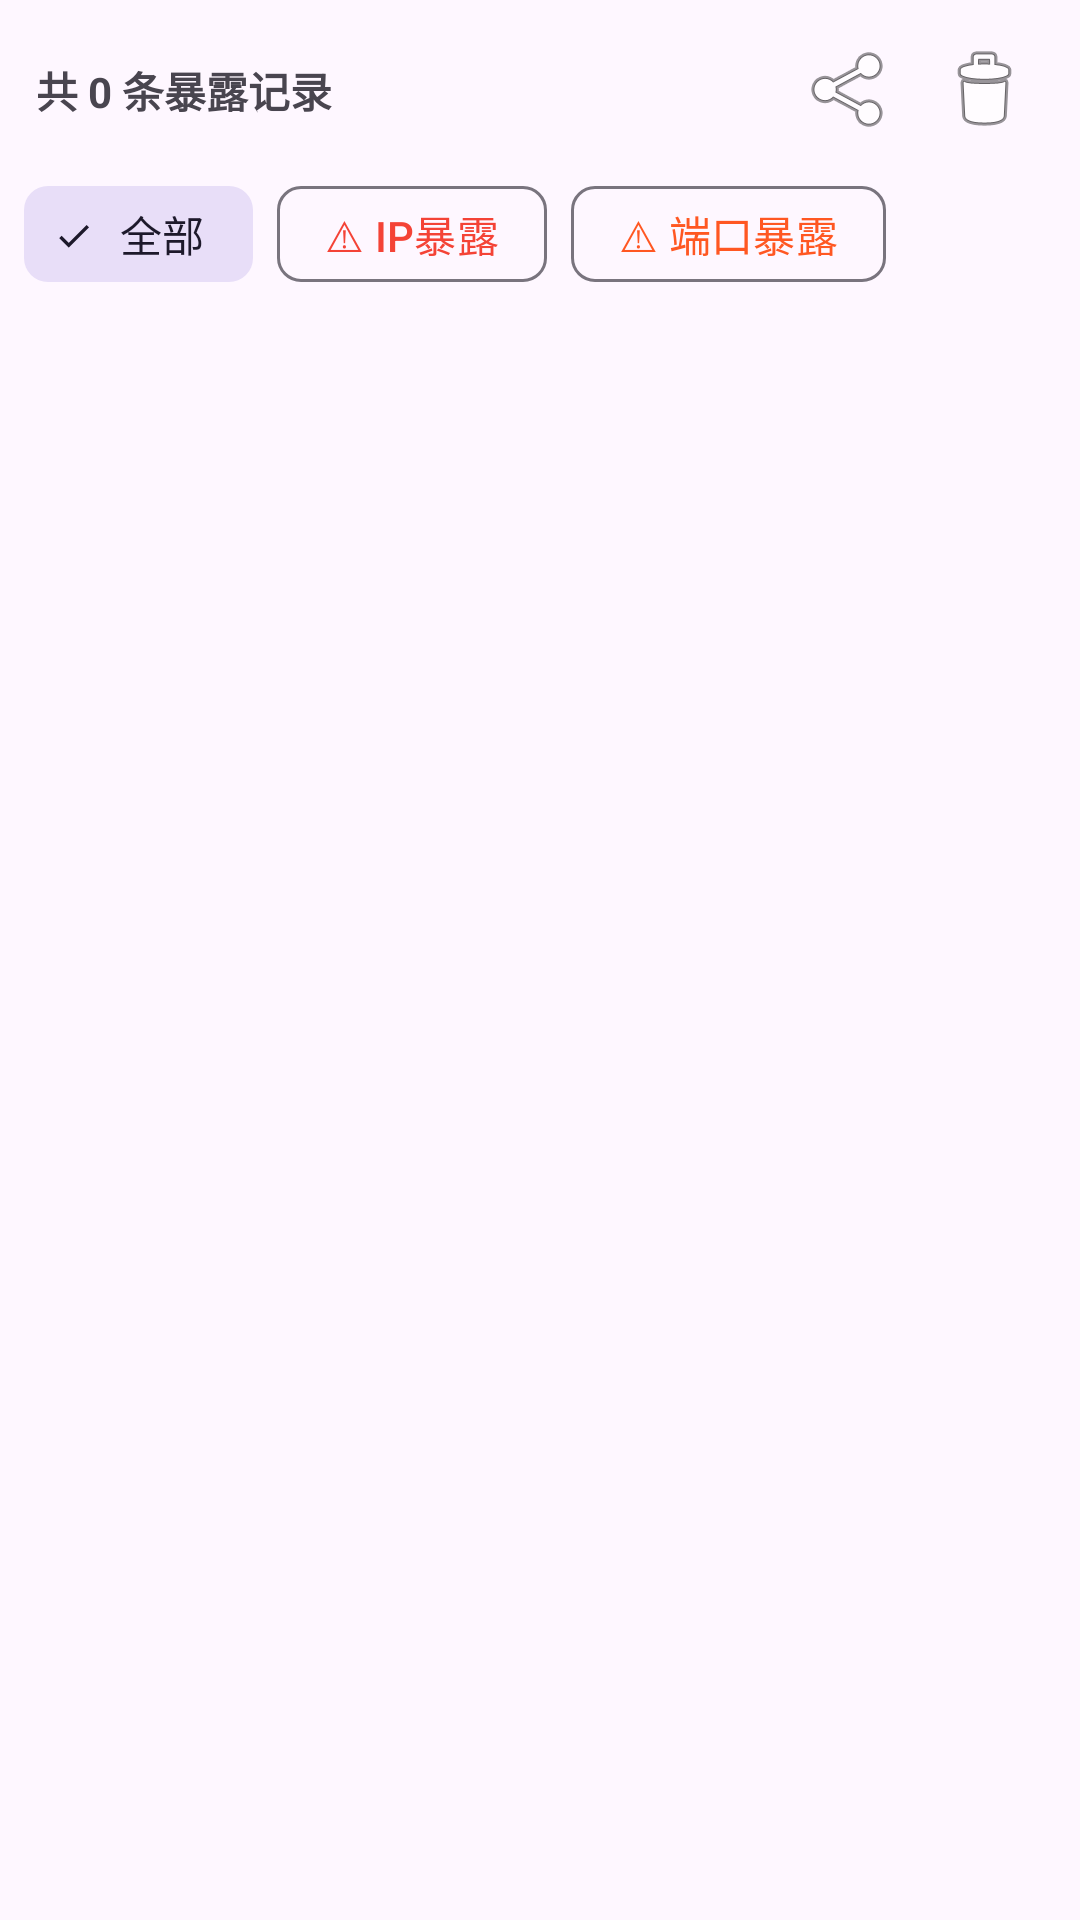

Icons on this 1080x1920 Android screen, each with its box as (x1, y1, x2, y2):
导出: (811, 52, 883, 127)
清空: (957, 51, 1012, 126)
